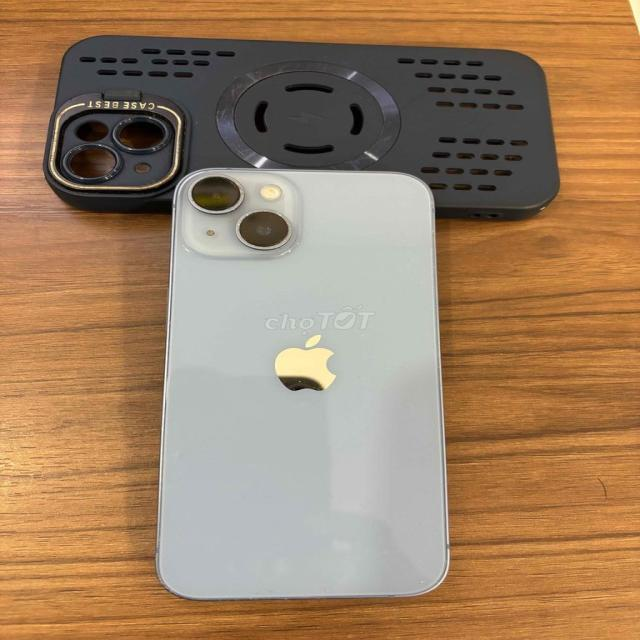gen_14: (152, 161, 460, 604)
